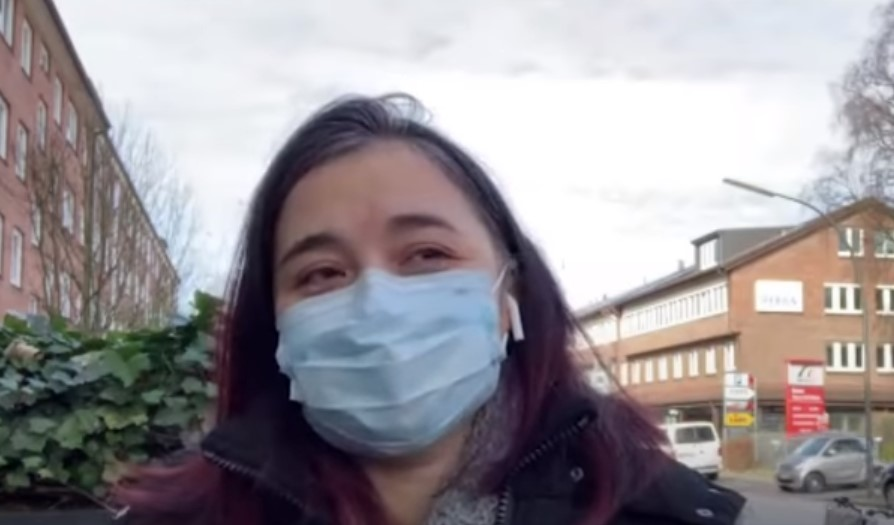face_with_mask: (263, 129, 525, 464)
